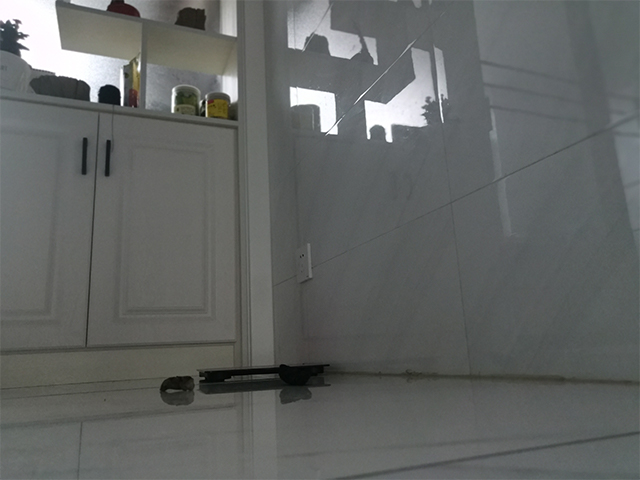cabinet: (1, 87, 245, 391)
feces: (276, 364, 315, 387), (157, 374, 198, 393)
